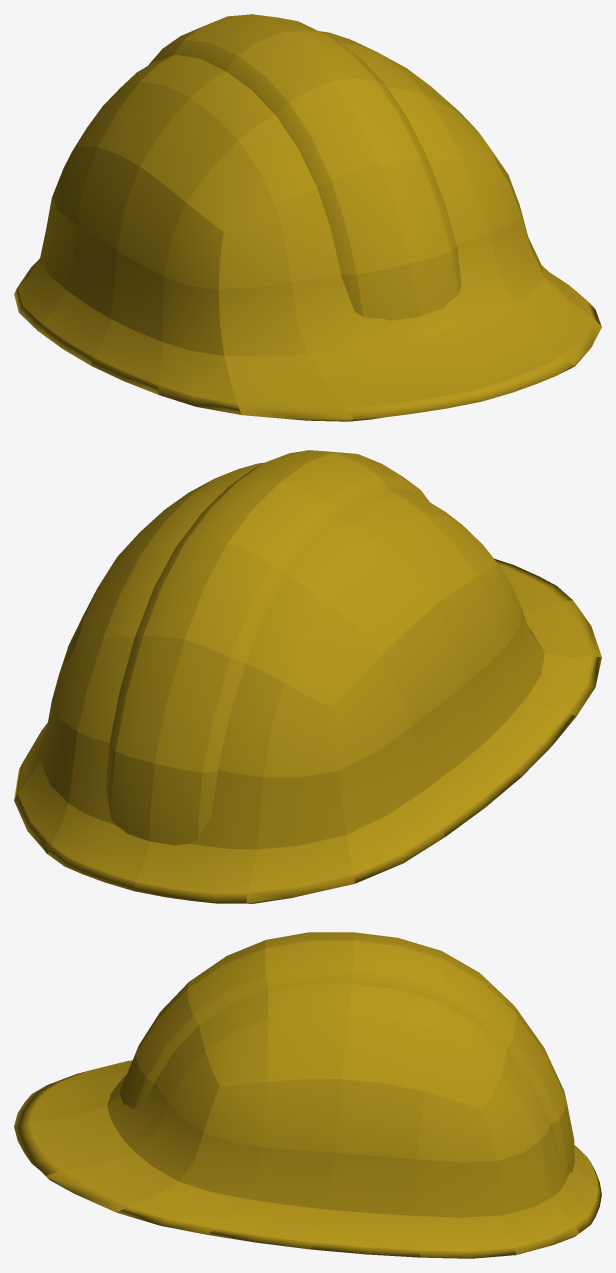
Rendered from hardhat.fbx.
The picture shows the model from 3 angles, top to bottom: view 1: azimuth 30°, elevation 25°; view 2: azimuth 150°, elevation 25°; view 3: azimuth 270°, elevation 25°; orthographic projection. The views are drawn at different scales.
Visible parts, largest first — view 1: Worker_Head; view 2: Worker_Head; view 3: Worker_Head.
Part boxes in pixels (x1,y1,x2,y2): Worker_Head: [14, 14, 601, 421]; Worker_Head: [14, 450, 601, 903]; Worker_Head: [14, 932, 601, 1258].
Size of the model in its own units: 23.19 by 32.56 by 15.54.
